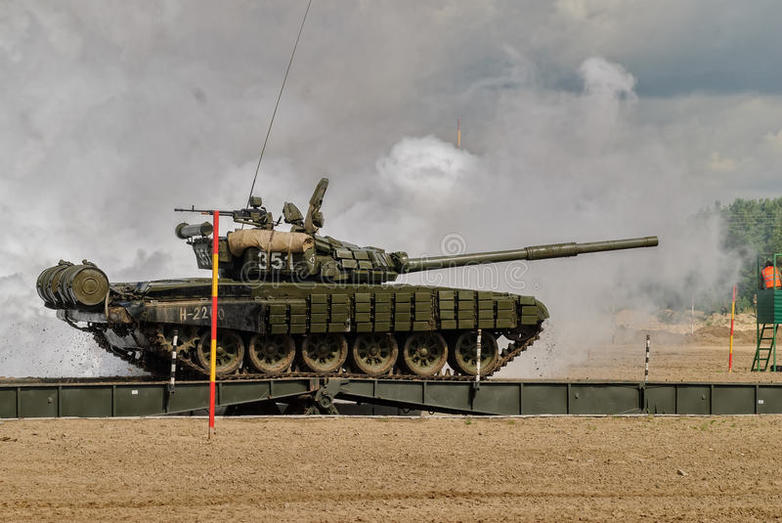t72: (42, 218, 666, 374)
